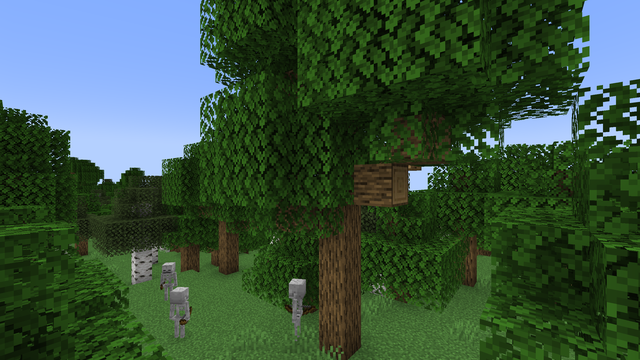squelettes: (285, 277, 308, 344), (169, 285, 190, 342), (160, 261, 176, 303)
